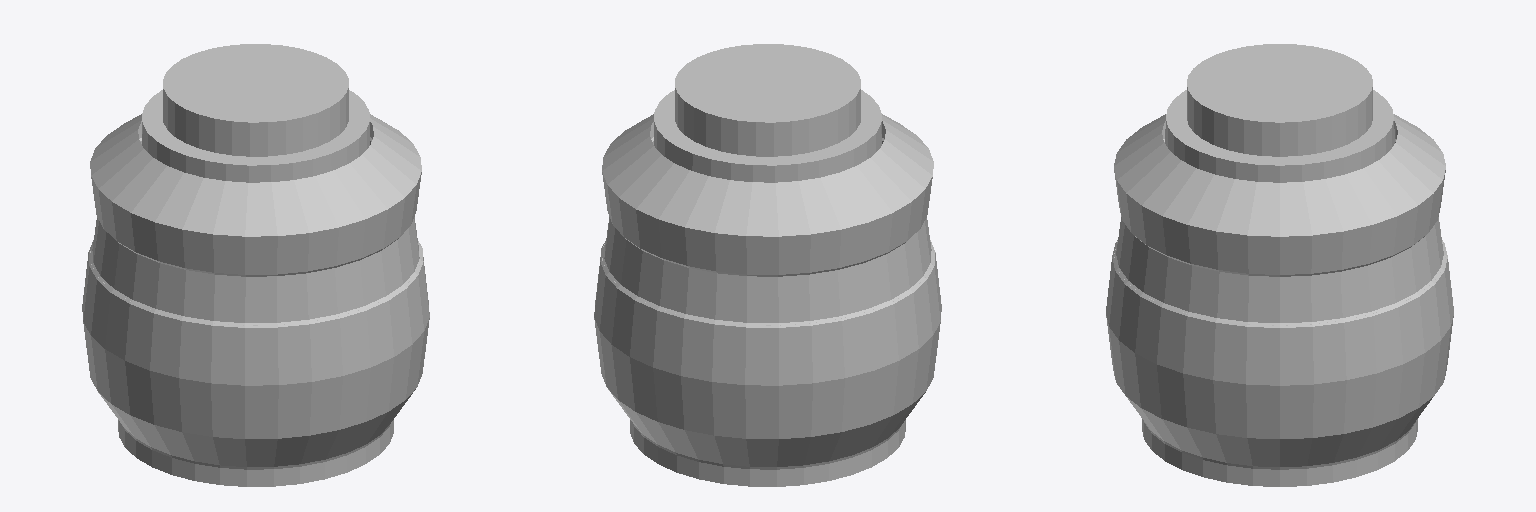
Rendered from vaso2.obj.
3 views of the same model, side by side, from view 1: azimuth 30°, elevation 25°; view 2: azimuth 150°, elevation 25°; view 3: azimuth 270°, elevation 25° (orthographic).
Visible parts, largest first — view 1: vase.001; view 2: vase.001; view 3: vase.001.
Part boxes in pixels (bbox=[...]): vase.001: bbox=[82, 44, 429, 486]; vase.001: bbox=[594, 44, 941, 486]; vase.001: bbox=[1106, 44, 1453, 486].
Bounding box in the file's own units: 1.52 × 1.66 × 1.52.